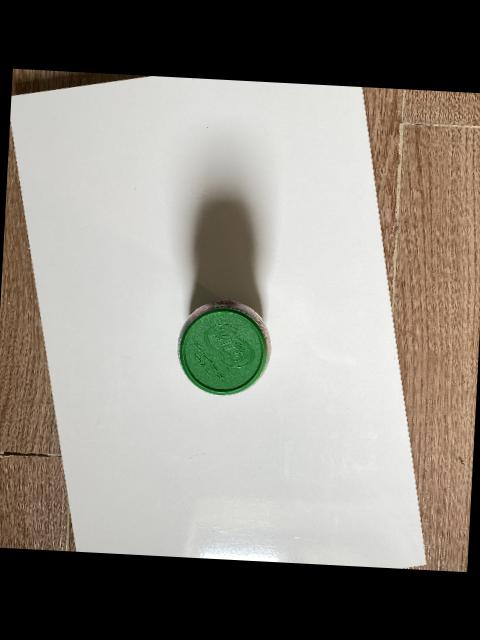milo: (177, 299, 272, 396)
